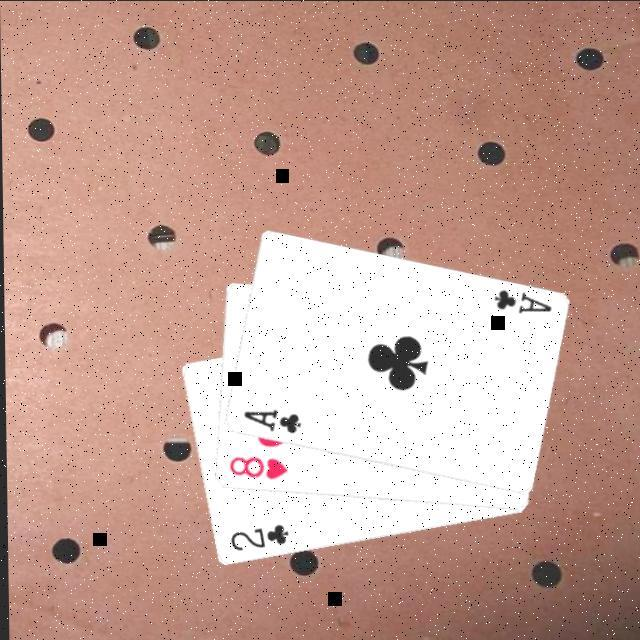2C: (224, 523, 288, 555)
8H: (224, 454, 288, 484)
AC: (238, 408, 302, 438), (488, 288, 552, 318)
